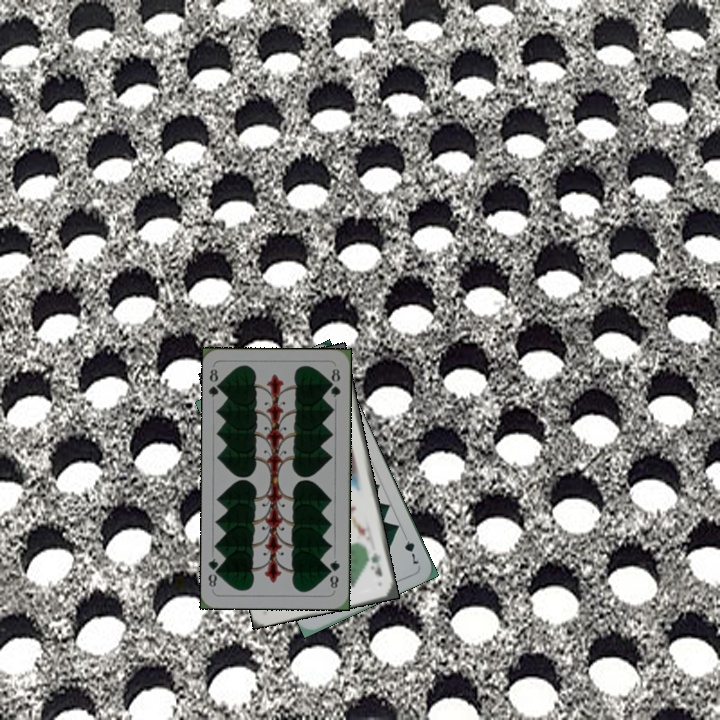G7: (399, 529, 423, 567)
G8: (205, 365, 225, 400), (325, 556, 343, 593)
GK: (367, 548, 385, 579)
